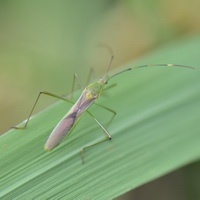insect: (0, 67, 199, 199), (141, 42, 199, 64)
